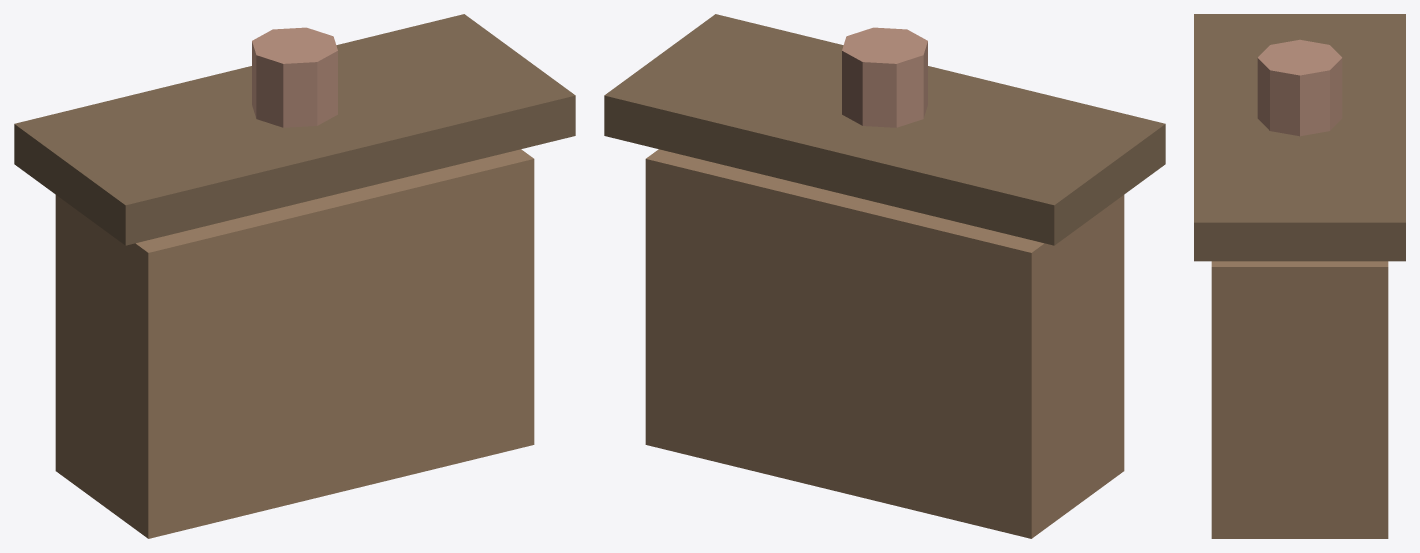
Rendered from altar.glb.
3 views of the same model, side by side, from view 1: azimuth 30°, elevation 25°; view 2: azimuth 150°, elevation 25°; view 3: azimuth 270°, elevation 25° (orthographic). The views are drawn at different scales.
Visible parts, largest first — view 1: part_1, part_0, part_2; view 2: part_1, part_0, part_2; view 3: part_1, part_0, part_2.
Part boxes in pixels (left/top/right/bottom): part_1: left=55, top=149, right=534, bottom=538; part_0: left=14, top=14, right=575, bottom=245; part_2: left=252, top=27, right=337, bottom=127; part_1: left=645, top=149, right=1124, bottom=538; part_0: left=604, top=14, right=1165, bottom=245; part_2: left=842, top=27, right=927, bottom=127; part_1: left=1211, top=261, right=1388, bottom=538; part_0: left=1194, top=14, right=1405, bottom=261; part_2: left=1257, top=39, right=1342, bottom=136.
Bounding box in the file's own units: 1.4 × 1.22 × 0.6.
